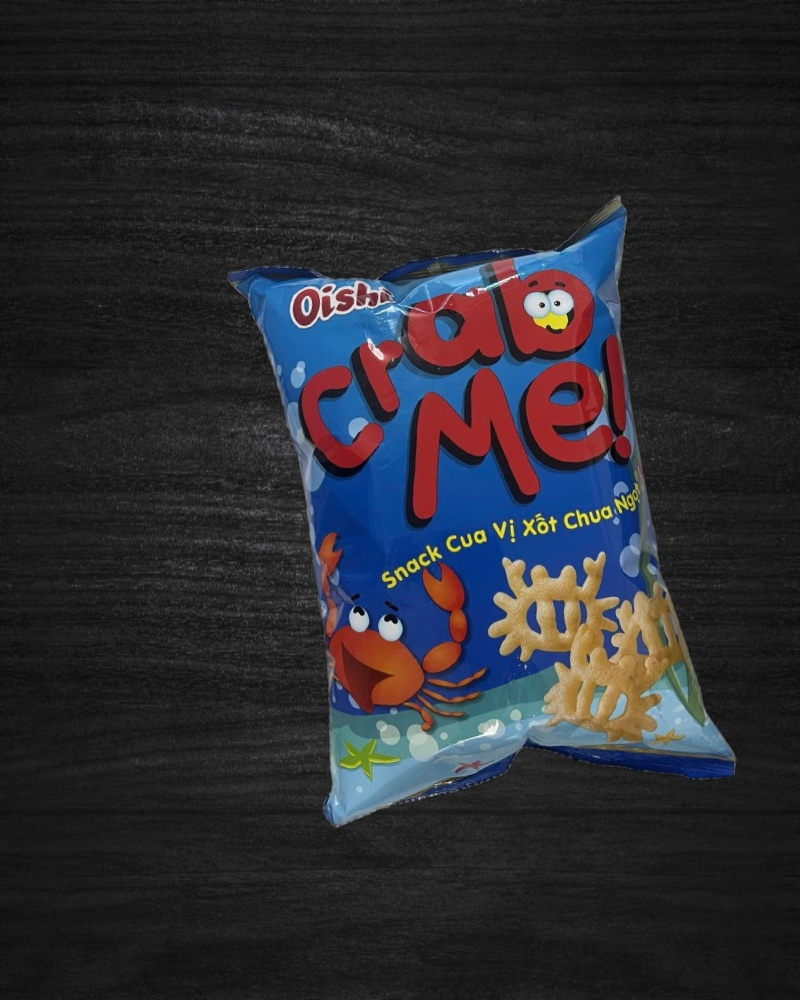Snack cua: (225, 192, 739, 842)
